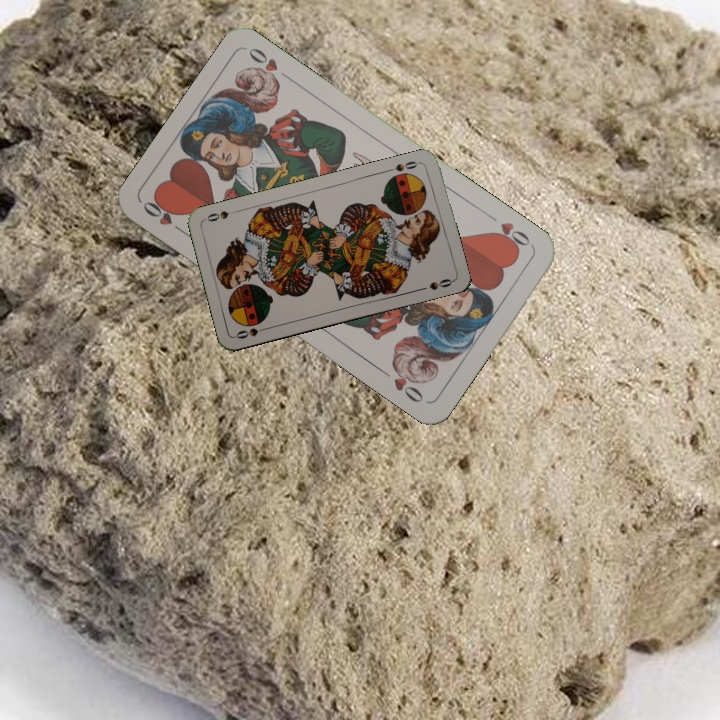HO: (138, 196, 190, 238), (487, 218, 533, 254)
SO: (232, 323, 272, 341), (391, 157, 424, 174)
